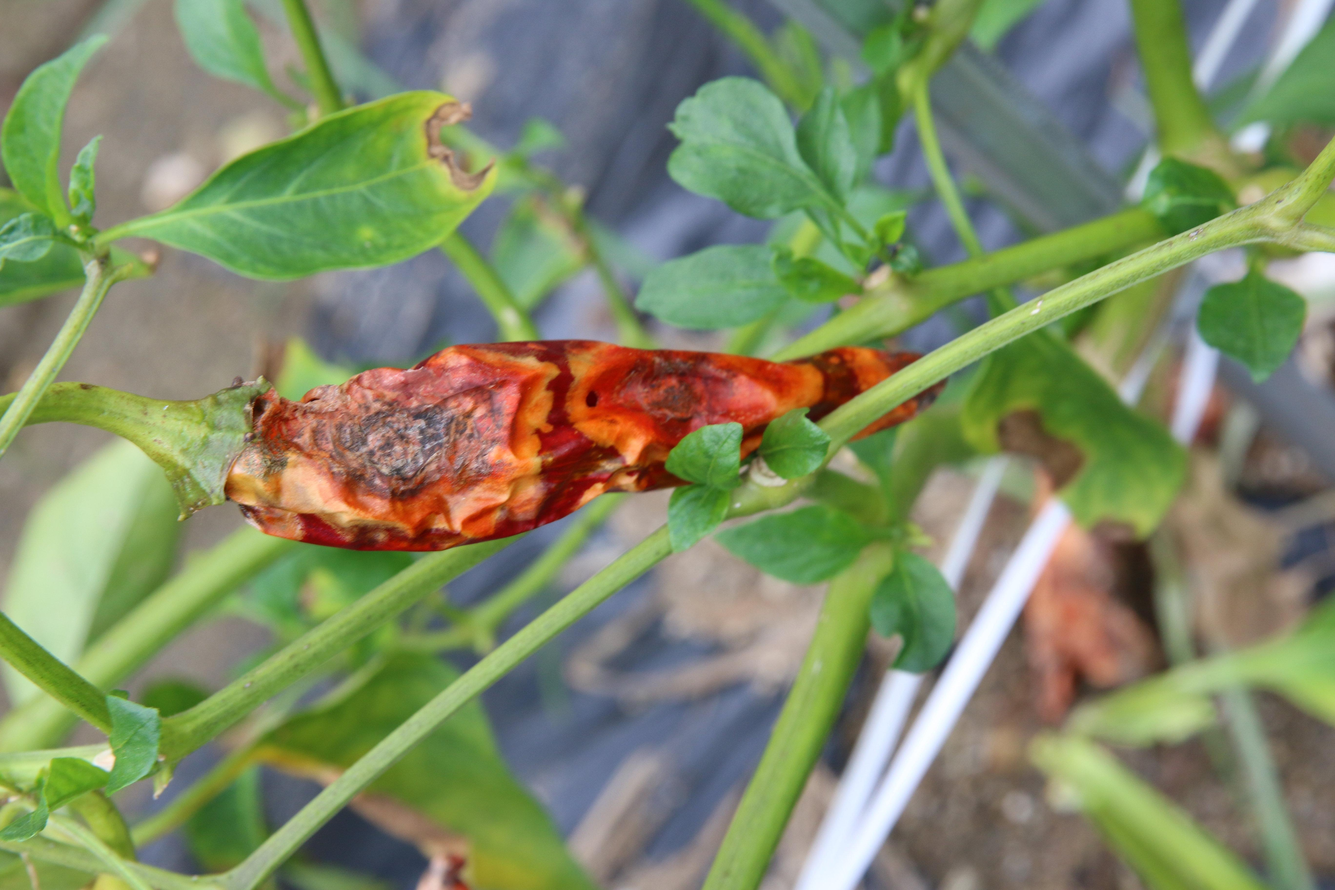Bercak Daun Serkospora: (120, 74, 514, 292)
Busuk Buah Antraknosa: (221, 335, 949, 555)
